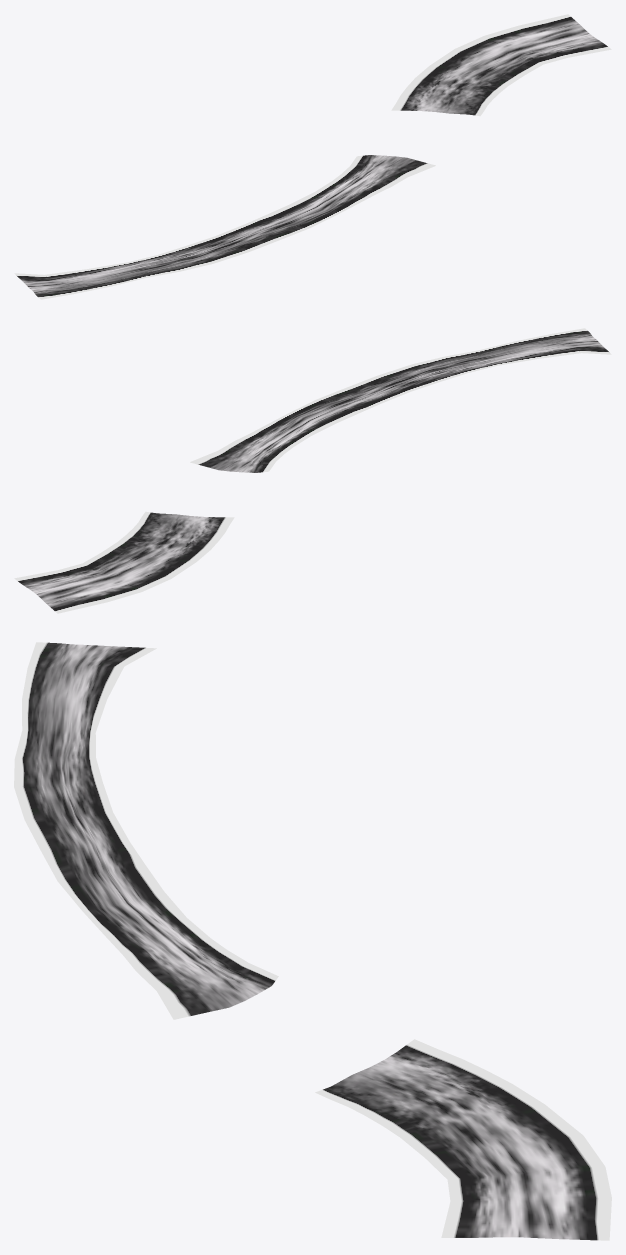
The model's file is guishui.FBX.
3 views of the same model, one above another, from view 1: azimuth 30°, elevation 25°; view 2: azimuth 210°, elevation 25°; view 3: azimuth 270°, elevation 25° (orthographic). The views are drawn at different scales.
Parts seen in each view (by area): view 1: guishui; view 2: guishui; view 3: guishui.
Boxes of the visible parts, x1=… form: guishui: x1=14, y1=14, x2=611, y2=299; guishui: x1=14, y1=328, x2=611, y2=613; guishui: x1=14, y1=642, x2=611, y2=1240.
Size of the model in its own units: 1099 by 1.28e-05 by 464.
Materials: 1 (1 with a texture image).
